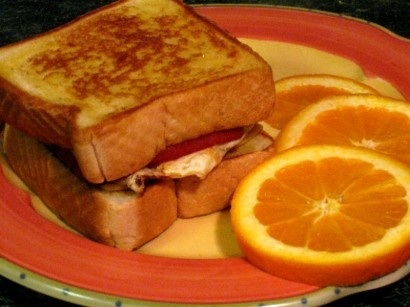background: (0, 0, 263, 138)
